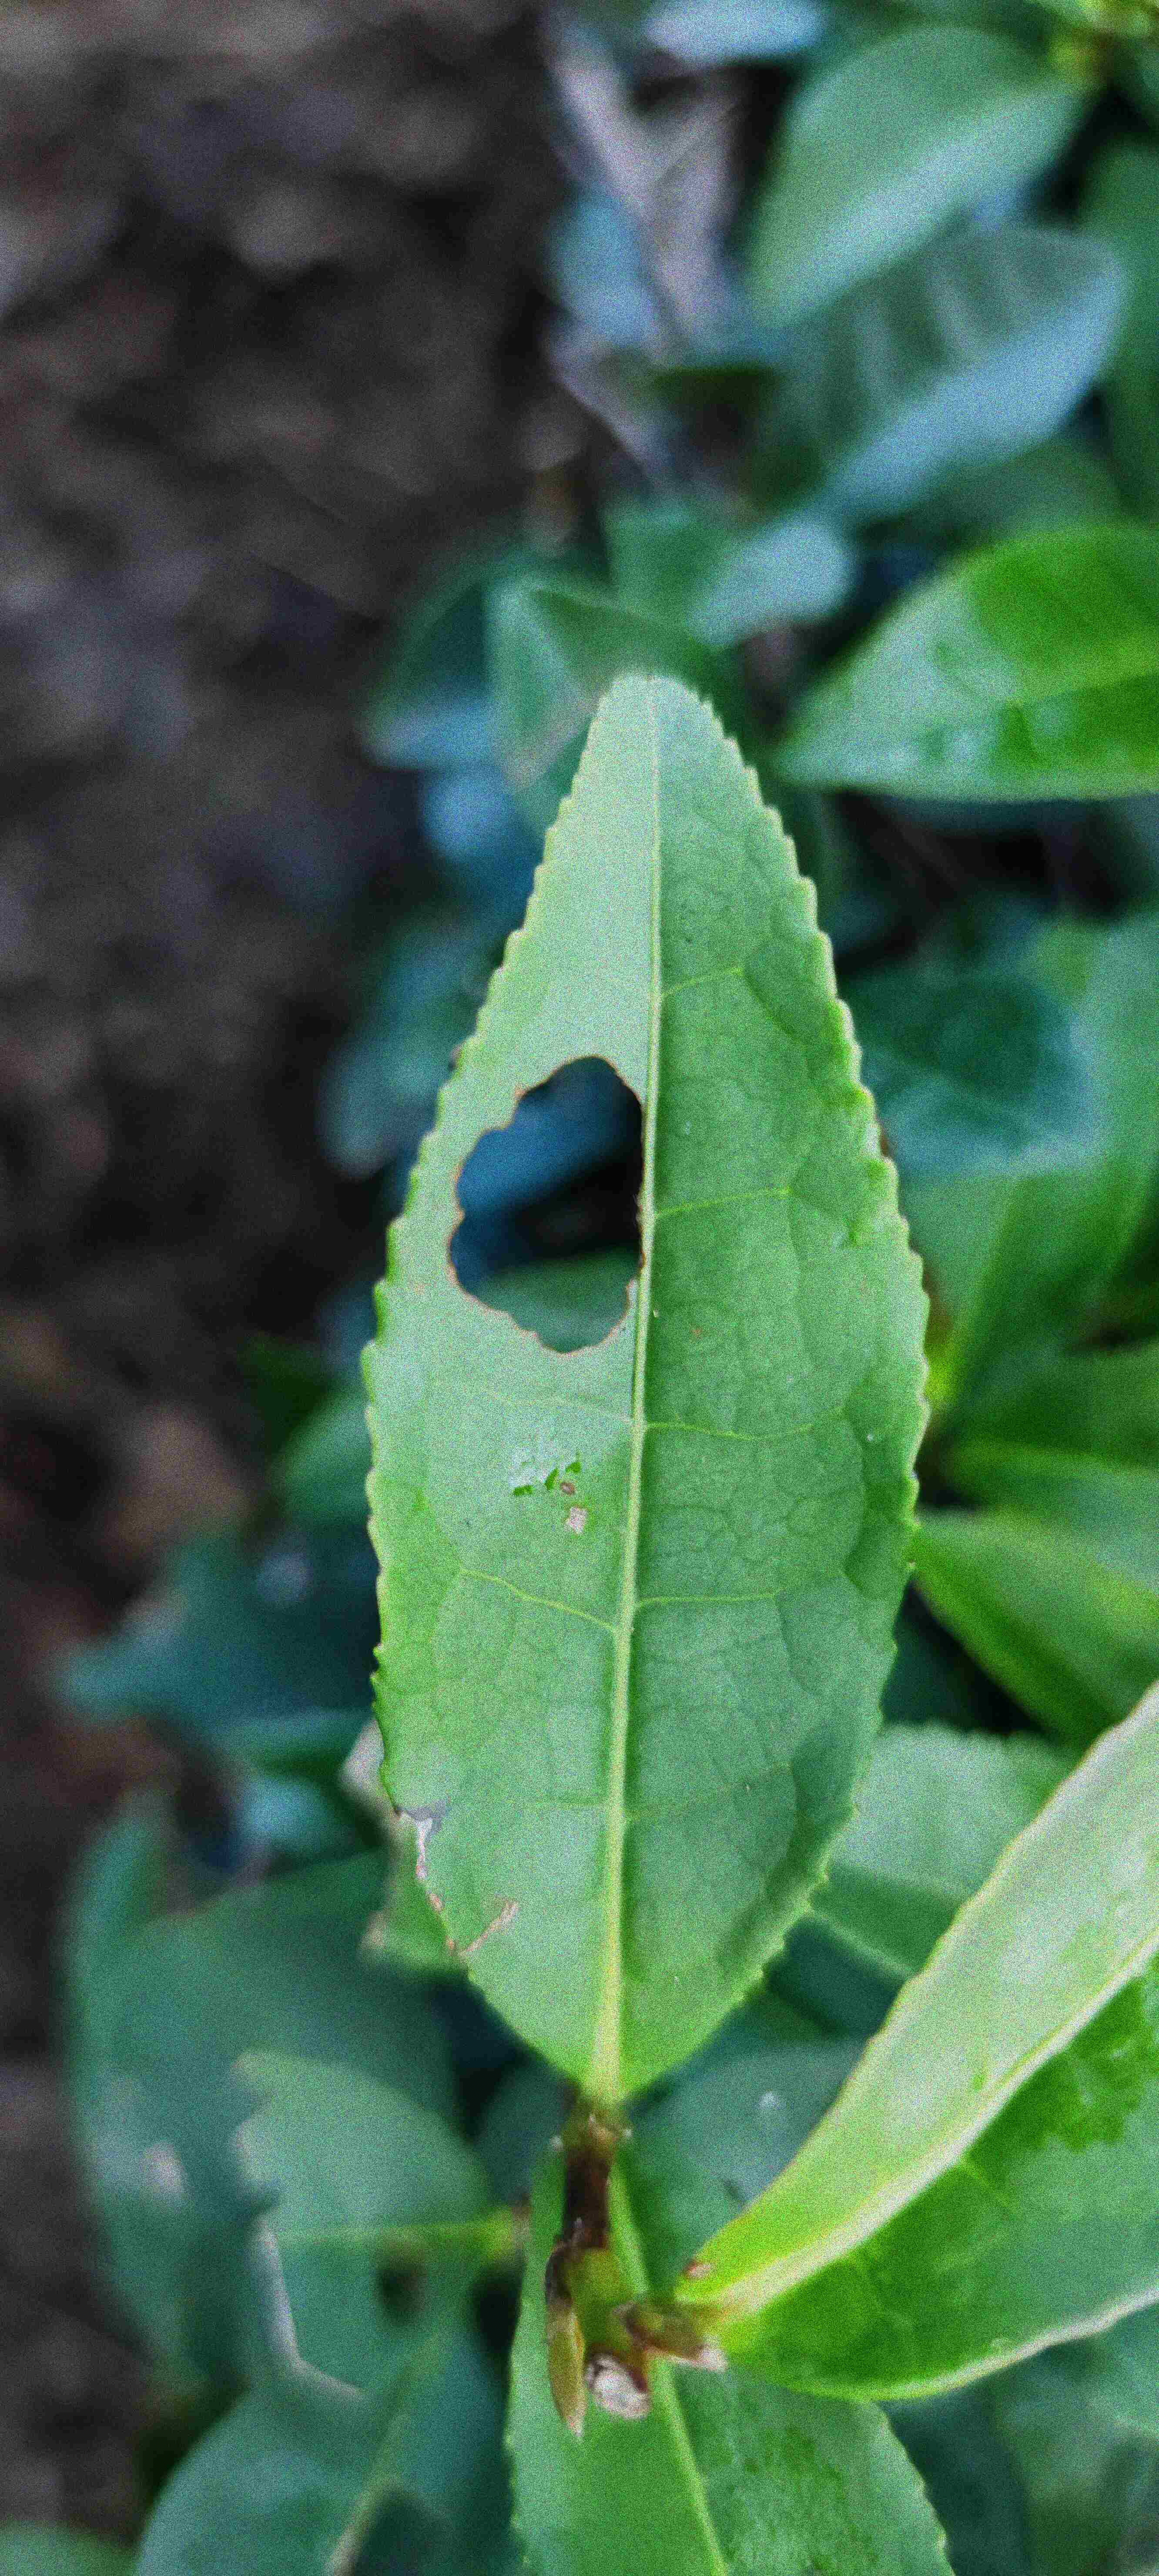chihuo_low: (364, 662, 944, 2096)
healthy: (681, 1699, 1152, 2413)
